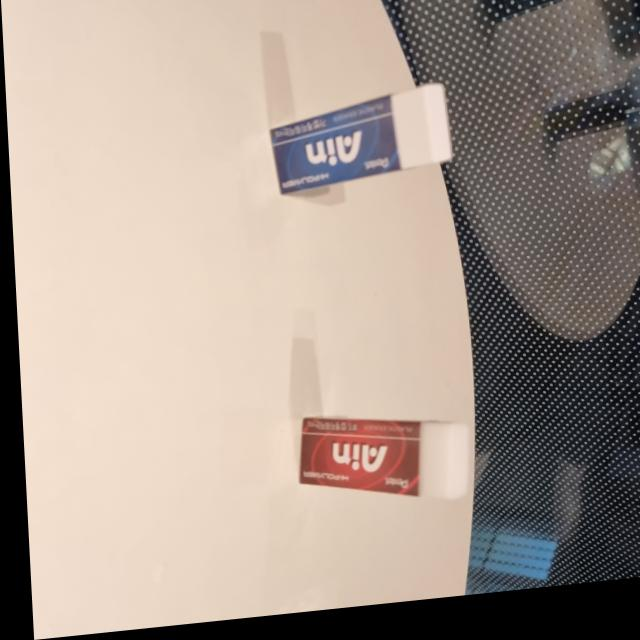blue: (265, 87, 452, 215)
red: (284, 407, 468, 523)
